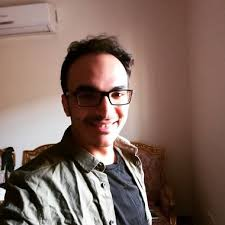middle_eastern_male: (66, 52, 132, 142)
